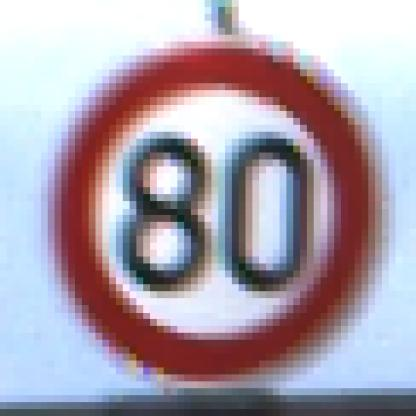Speed Limit 80: (60, 43, 374, 377)
